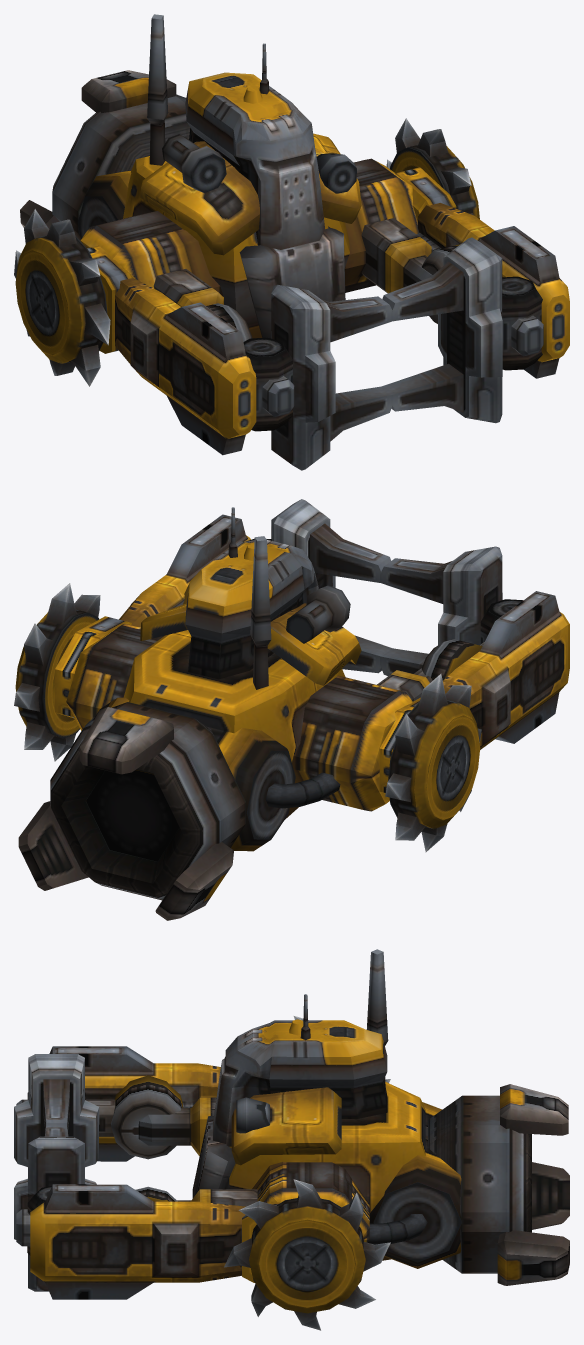
File: mule.glb
The picture shows the model from 3 angles, top to bottom: view 1: azimuth 30°, elevation 25°; view 2: azimuth 150°, elevation 25°; view 3: azimuth 270°, elevation 25°; orthographic projection. The views are drawn at different scales.
Parts seen in each view (by area): view 1: Mesh; view 2: Mesh; view 3: Mesh.
Part boxes in pixels (x1,y1,x2,y2): Mesh: [14, 14, 569, 470]; Mesh: [14, 499, 569, 920]; Mesh: [14, 949, 569, 1330].
Bounding box in the file's own units: 1.36 × 1 × 1.76.
Materials: 1 (1 with a texture image).
